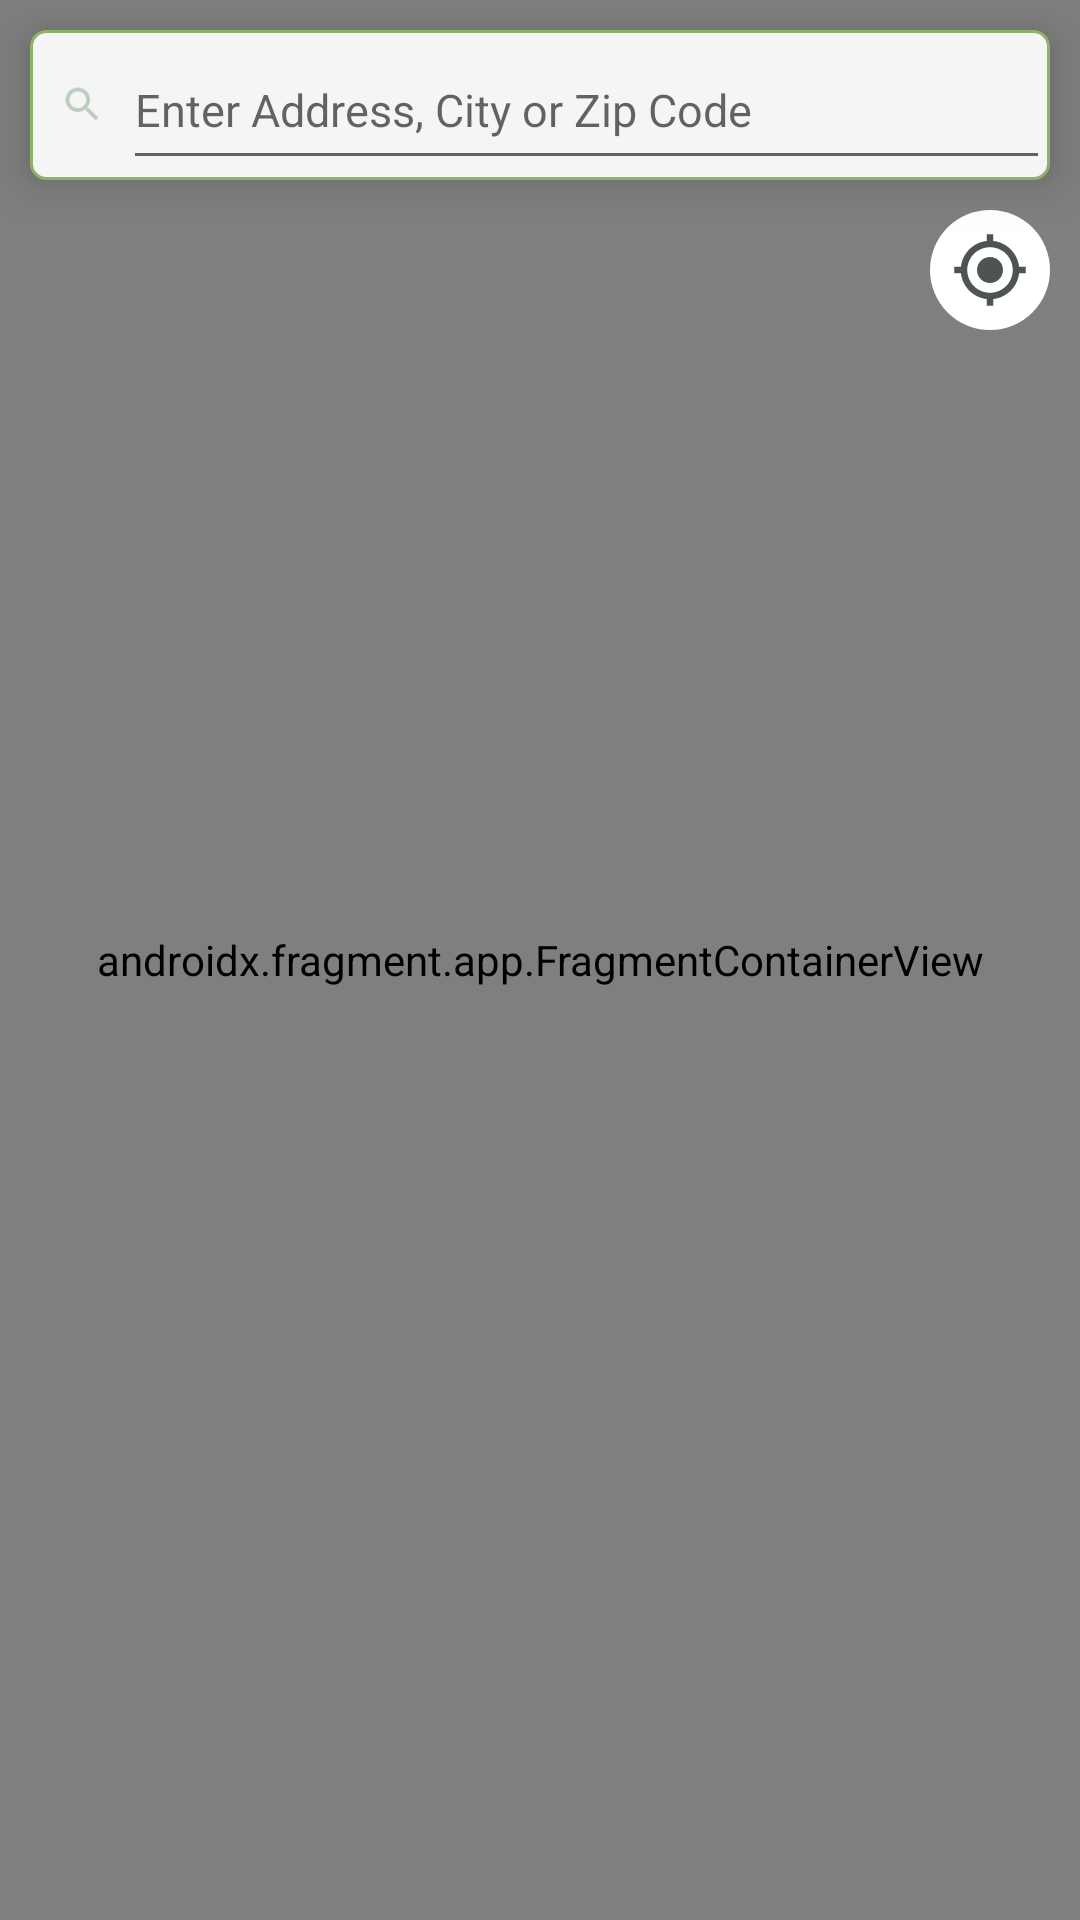

Icon click points for this 1080 × 1920 phone screenshot, format (x=x, y=y):
gps map fragment: (x=990, y=270)
search bar: (x=82, y=104)
